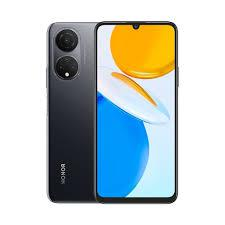Smartphone: (99, 19, 182, 204), (47, 21, 110, 205)
